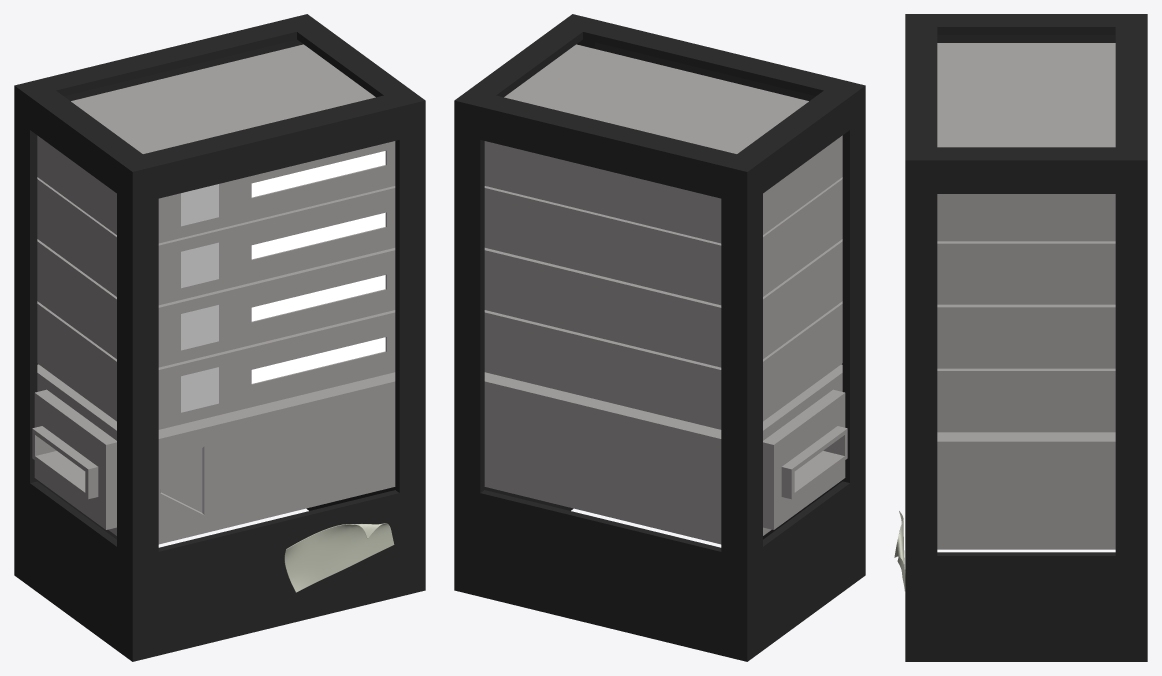
The model's file is ProductionServer.fbx.
3 renders of one model, left to right at view 1: azimuth 30°, elevation 25°; view 2: azimuth 150°, elevation 25°; view 3: azimuth 270°, elevation 25°, orthographic. The views are drawn at different scales.
Visible parts, largest first — view 1: Shelf, Intake, Rack1, Rack3, Rack4, Rack2, Label; view 2: Shelf, Intake, Rack1, Rack3, Rack4, Rack2; view 3: Shelf, Rack1, Intake, Rack4, Rack3, Rack2, Label.
Part boxes in pixels (bbox=[...]): Shelf: bbox=[14, 14, 425, 661]; Intake: bbox=[32, 364, 395, 544]; Rack1: bbox=[37, 44, 395, 243]; Rack3: bbox=[37, 239, 395, 367]; Rack4: bbox=[37, 301, 395, 429]; Rack2: bbox=[37, 177, 395, 305]; Label: bbox=[284, 523, 394, 592]; Shelf: bbox=[454, 14, 865, 661]; Intake: bbox=[484, 364, 847, 544]; Rack1: bbox=[484, 44, 842, 243]; Rack3: bbox=[484, 239, 842, 367]; Rack4: bbox=[484, 301, 842, 429]; Rack2: bbox=[484, 177, 842, 305]; Shelf: bbox=[905, 14, 1147, 661]; Rack1: bbox=[937, 43, 1115, 241]; Intake: bbox=[937, 432, 1115, 549]; Rack4: bbox=[937, 368, 1115, 432]; Rack3: bbox=[937, 304, 1115, 368]; Rack2: bbox=[937, 241, 1115, 304]; Label: bbox=[894, 511, 905, 590].
Size of the model in its own units: 396 by 605 by 277.
